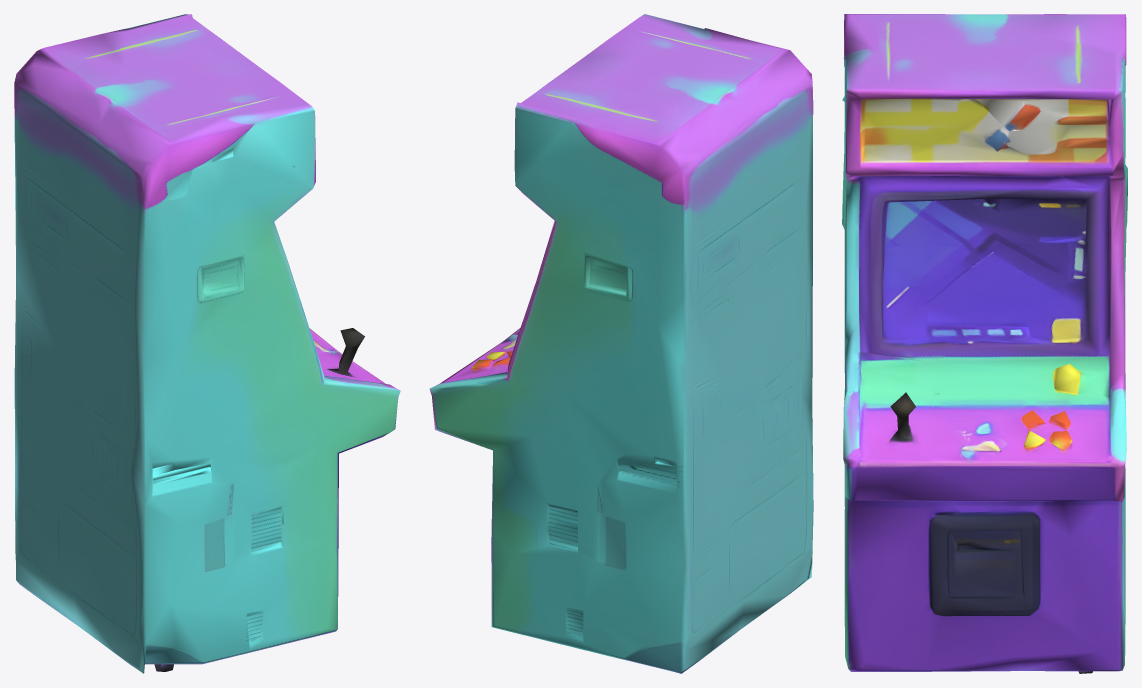
File: arcade.glb
3 renders of one model, left to right at view 1: azimuth 30°, elevation 25°; view 2: azimuth 150°, elevation 25°; view 3: azimuth 270°, elevation 25°, orthographic. The views are drawn at different scales.
Parts seen in each view (by area): view 1: tripo_node_a48c7ef3-df87-4ce6-90f4-1d5bec8131e6; view 2: tripo_node_a48c7ef3-df87-4ce6-90f4-1d5bec8131e6; view 3: tripo_node_a48c7ef3-df87-4ce6-90f4-1d5bec8131e6.
Part boxes in pixels (<box>): tripo_node_a48c7ef3-df87-4ce6-90f4-1d5bec8131e6: <box>14,14,400,673</box>; tripo_node_a48c7ef3-df87-4ce6-90f4-1d5bec8131e6: <box>429,14,813,673</box>; tripo_node_a48c7ef3-df87-4ce6-90f4-1d5bec8131e6: <box>842,14,1127,673</box>.
Bounding box in the file's own units: 0.5016 × 1 × 0.4432.
1 material, 1 textured.
